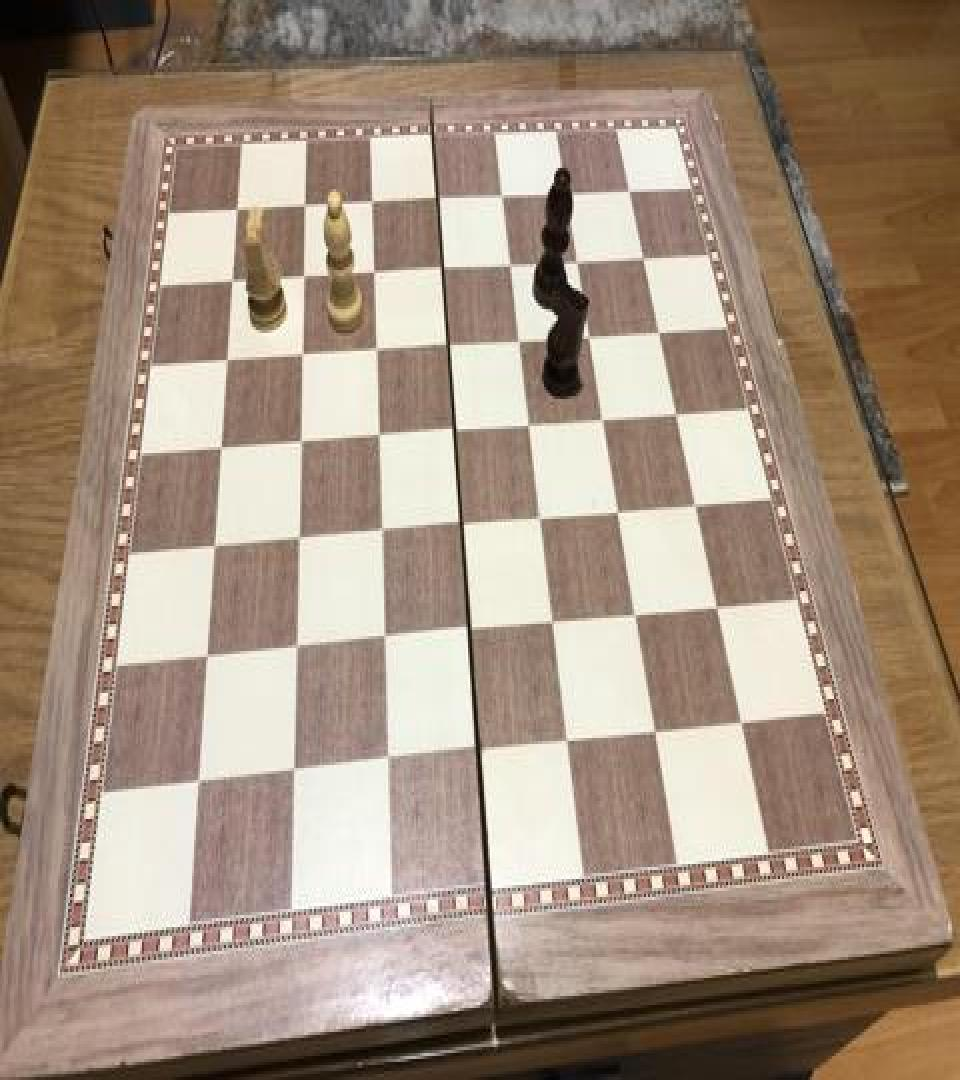xcorner: (704, 586, 728, 623), (623, 595, 647, 632), (370, 622, 394, 659), (465, 733, 489, 770), (618, 174, 642, 210), (555, 177, 579, 213), (491, 182, 515, 218), (426, 184, 450, 220), (360, 189, 384, 225), (294, 192, 318, 228), (226, 196, 250, 232), (632, 240, 656, 276), (566, 244, 590, 280), (499, 249, 523, 285), (431, 254, 455, 290), (362, 258, 386, 294), (292, 262, 316, 298), (221, 267, 245, 303), (647, 314, 671, 350), (578, 320, 602, 356), (508, 324, 532, 360), (436, 330, 460, 366), (364, 334, 388, 370), (290, 340, 314, 376), (215, 346, 239, 382), (664, 394, 688, 430), (592, 402, 616, 438), (518, 408, 542, 444), (442, 414, 466, 450), (366, 420, 390, 456), (288, 428, 312, 464), (209, 434, 233, 470), (683, 486, 707, 522), (606, 494, 630, 530), (528, 501, 552, 537), (449, 508, 473, 544), (368, 516, 392, 552), (286, 524, 310, 560), (202, 531, 226, 567), (540, 604, 564, 640), (456, 614, 480, 650), (283, 633, 307, 669), (194, 642, 218, 678), (728, 700, 752, 736), (642, 711, 666, 747), (554, 722, 578, 758), (373, 744, 397, 780), (280, 756, 304, 792), (185, 766, 209, 802)
